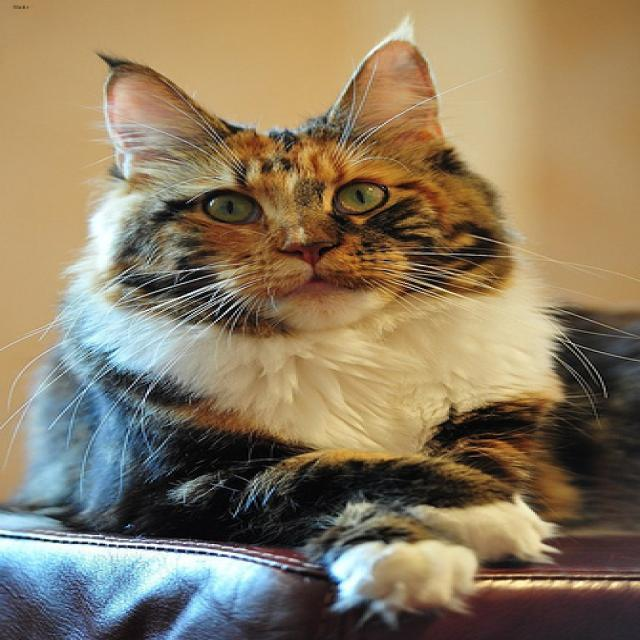Maine_Coon: (84, 35, 519, 335)
